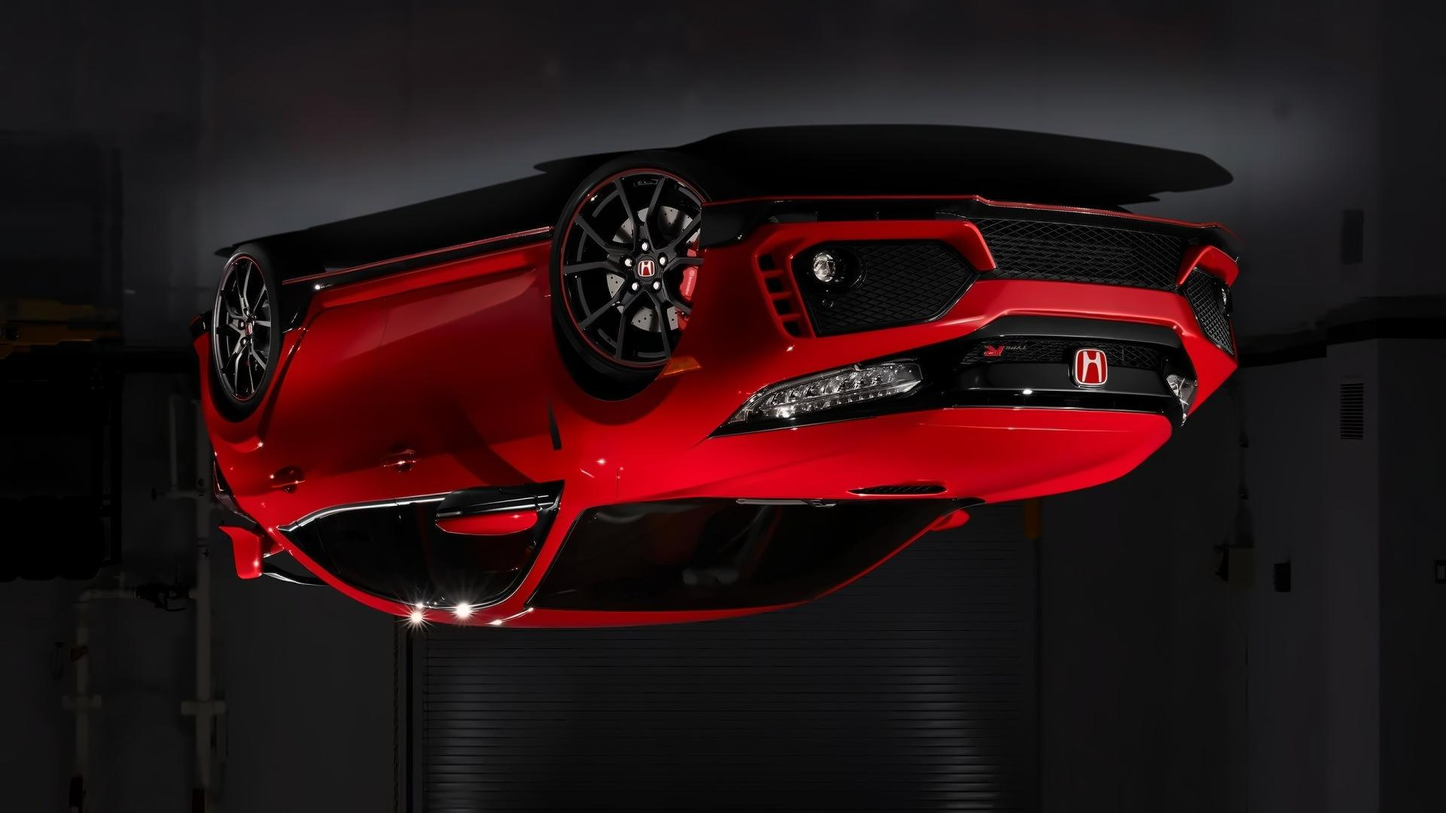Car hood: (630, 407, 1201, 519)
Fender - -F-L-: (537, 215, 815, 507)
Fender - -R-L-: (161, 306, 331, 548)
Front bumper: (696, 161, 1281, 361)
Headlight - -L-: (702, 349, 950, 446)
Headlight - -R-: (1120, 349, 1219, 434)
Passenger-s door - -F-L-: (384, 279, 587, 617)
Passenger-s door - -R-L-: (259, 279, 420, 617)
Rear light - -L-: (181, 452, 306, 587)
Side bumper - -L-: (279, 218, 580, 314)
Side mirror - -L-: (422, 457, 576, 560)
